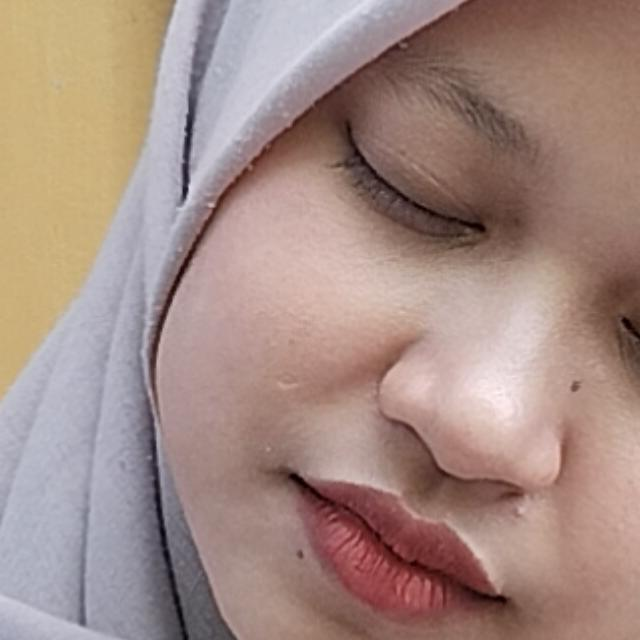tidur: (166, 258, 640, 640)
